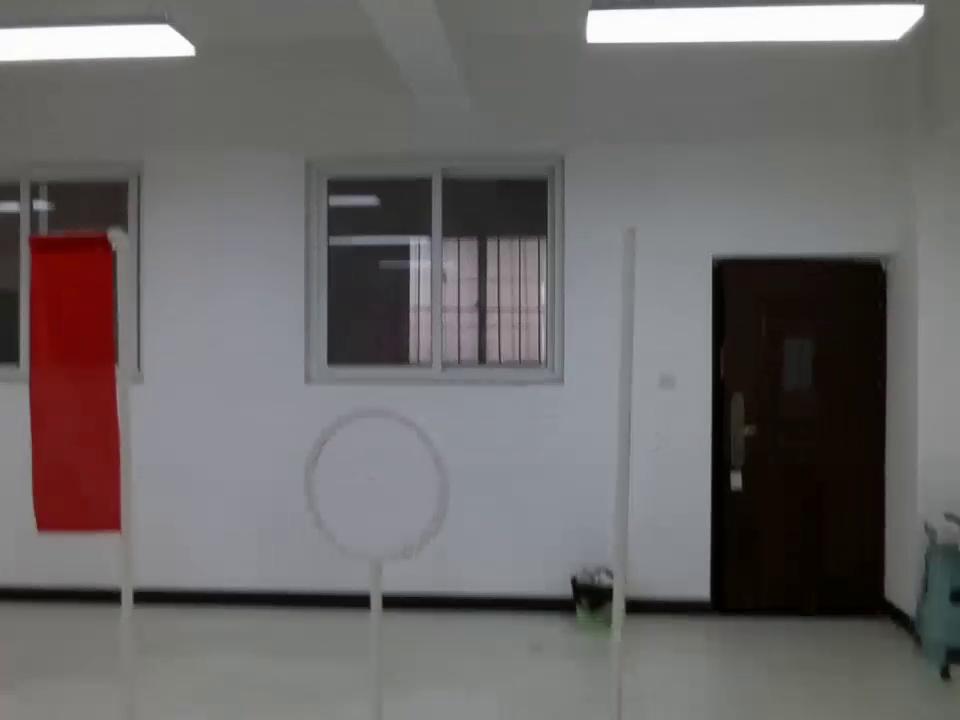gan: (605, 220, 638, 715)
qi: (22, 231, 124, 534)
quan: (299, 408, 453, 561)
